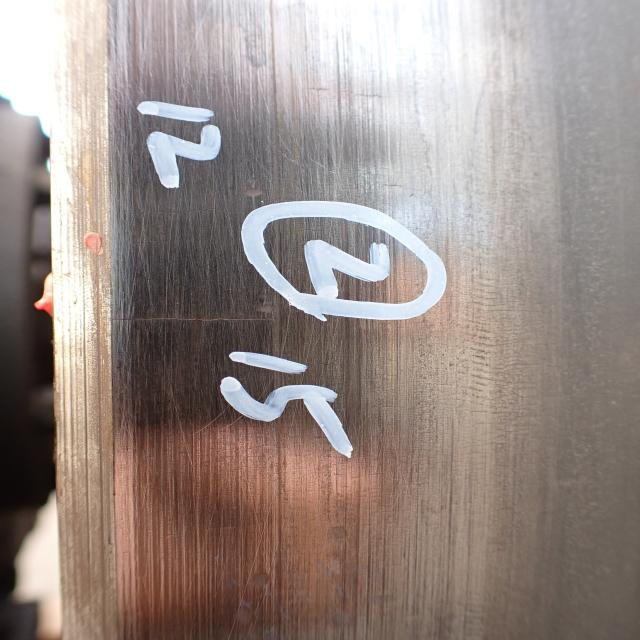Brake_Thermal_Cracks: (109, 317, 277, 327), (125, 237, 233, 246), (138, 208, 240, 216)
